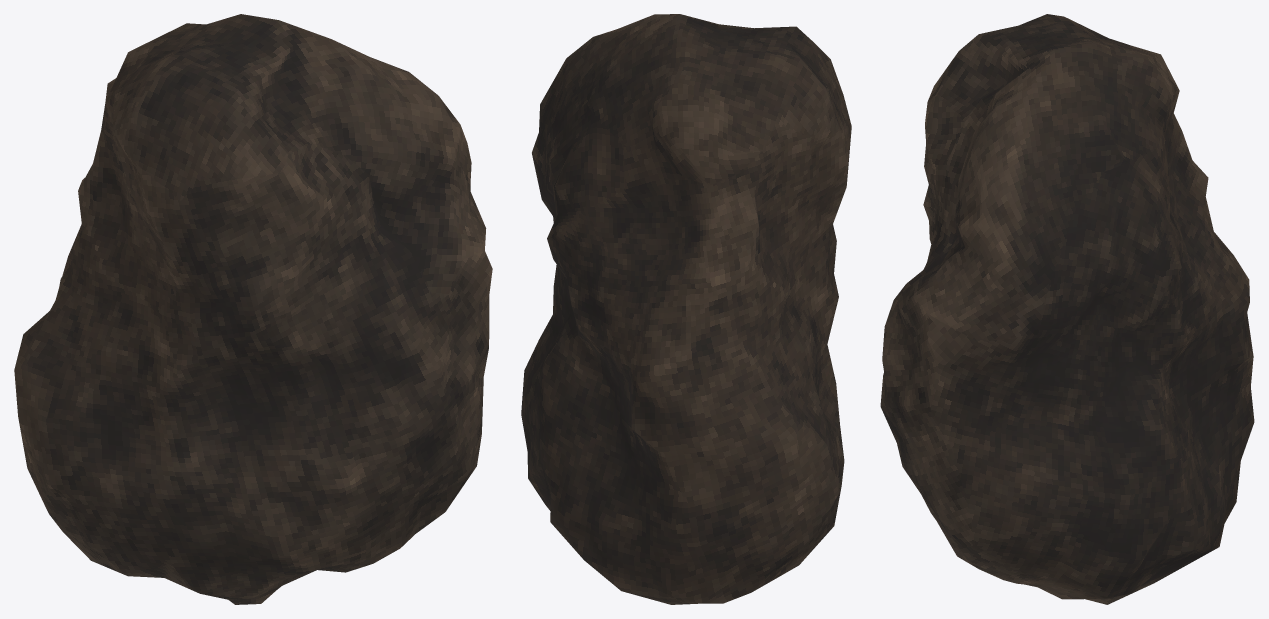
File: SM_RP2_Rock_4m_4.002.glb
3 views of the same model, side by side, from view 1: azimuth 30°, elevation 25°; view 2: azimuth 150°, elevation 25°; view 3: azimuth 270°, elevation 25° (orthographic). The views are drawn at different scales.
Parts seen in each view (by area): view 1: SM_RP2_Rock_4m_4.002; view 2: SM_RP2_Rock_4m_4.002; view 3: SM_RP2_Rock_4m_4.002.
Boxes of the visible parts, left/top/right/bottom form: SM_RP2_Rock_4m_4.002: left=14, top=14, right=492, bottom=604; SM_RP2_Rock_4m_4.002: left=521, top=14, right=851, bottom=604; SM_RP2_Rock_4m_4.002: left=880, top=14, right=1254, bottom=604.
Size of the model in its own units: 4.67 by 7.19 by 4.4.
1 material, 1 textured.
